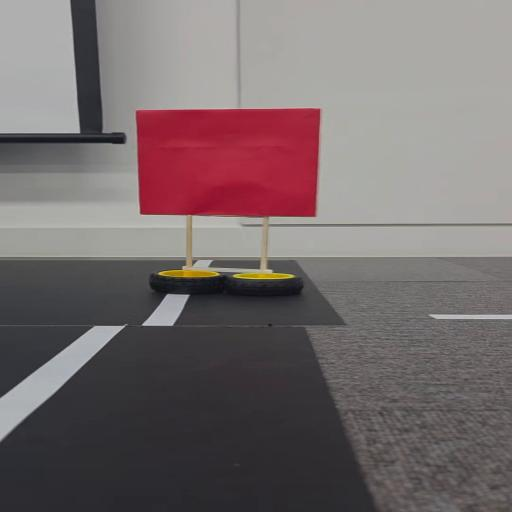Sign_A: (131, 107, 333, 299)
